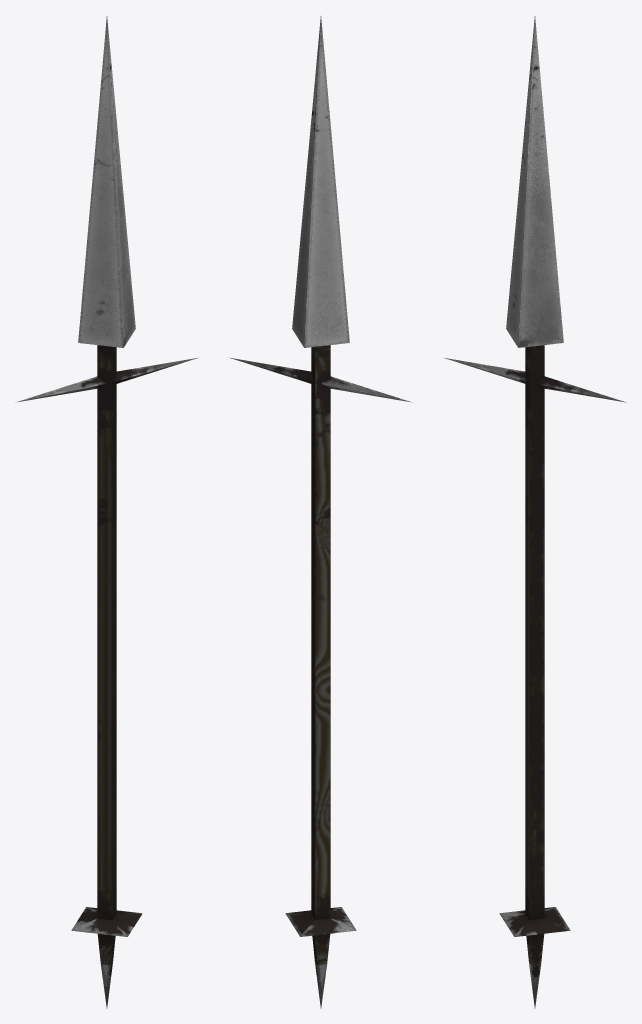
The model's file is skeleton_lancer_lance.fbx.
The picture shows the model from 3 angles, left to right: view 1: azimuth 30°, elevation 25°; view 2: azimuth 150°, elevation 25°; view 3: azimuth 330°, elevation 25°; orthographic projection.
Parts seen in each view (by area): view 1: skeleton_lancer_lance; view 2: skeleton_lancer_lance; view 3: skeleton_lancer_lance.
Part boxes in pixels (left/top/right/bottom): skeleton_lancer_lance: left=15, top=16, right=198, bottom=1008; skeleton_lancer_lance: left=229, top=16, right=412, bottom=1008; skeleton_lancer_lance: left=443, top=16, right=626, bottom=1008.
Size of the model in its own units: 45.18 by 232 by 17.48.
